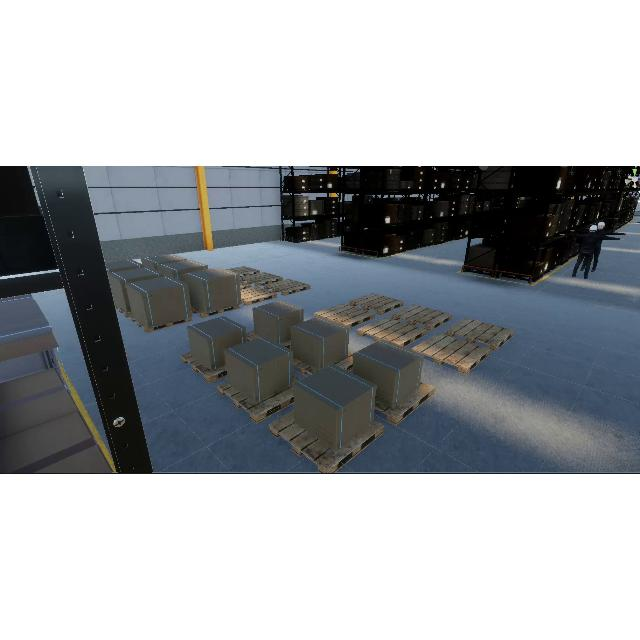wooden_pallet: (268, 410, 385, 474), (216, 380, 293, 424), (412, 333, 492, 374), (374, 382, 434, 425), (444, 318, 515, 351), (357, 316, 427, 347), (391, 304, 453, 331), (313, 303, 375, 330), (180, 351, 227, 384), (349, 293, 404, 315), (130, 315, 192, 332), (263, 279, 311, 295), (241, 286, 278, 306), (191, 305, 240, 318), (240, 272, 283, 286), (225, 266, 260, 276)
